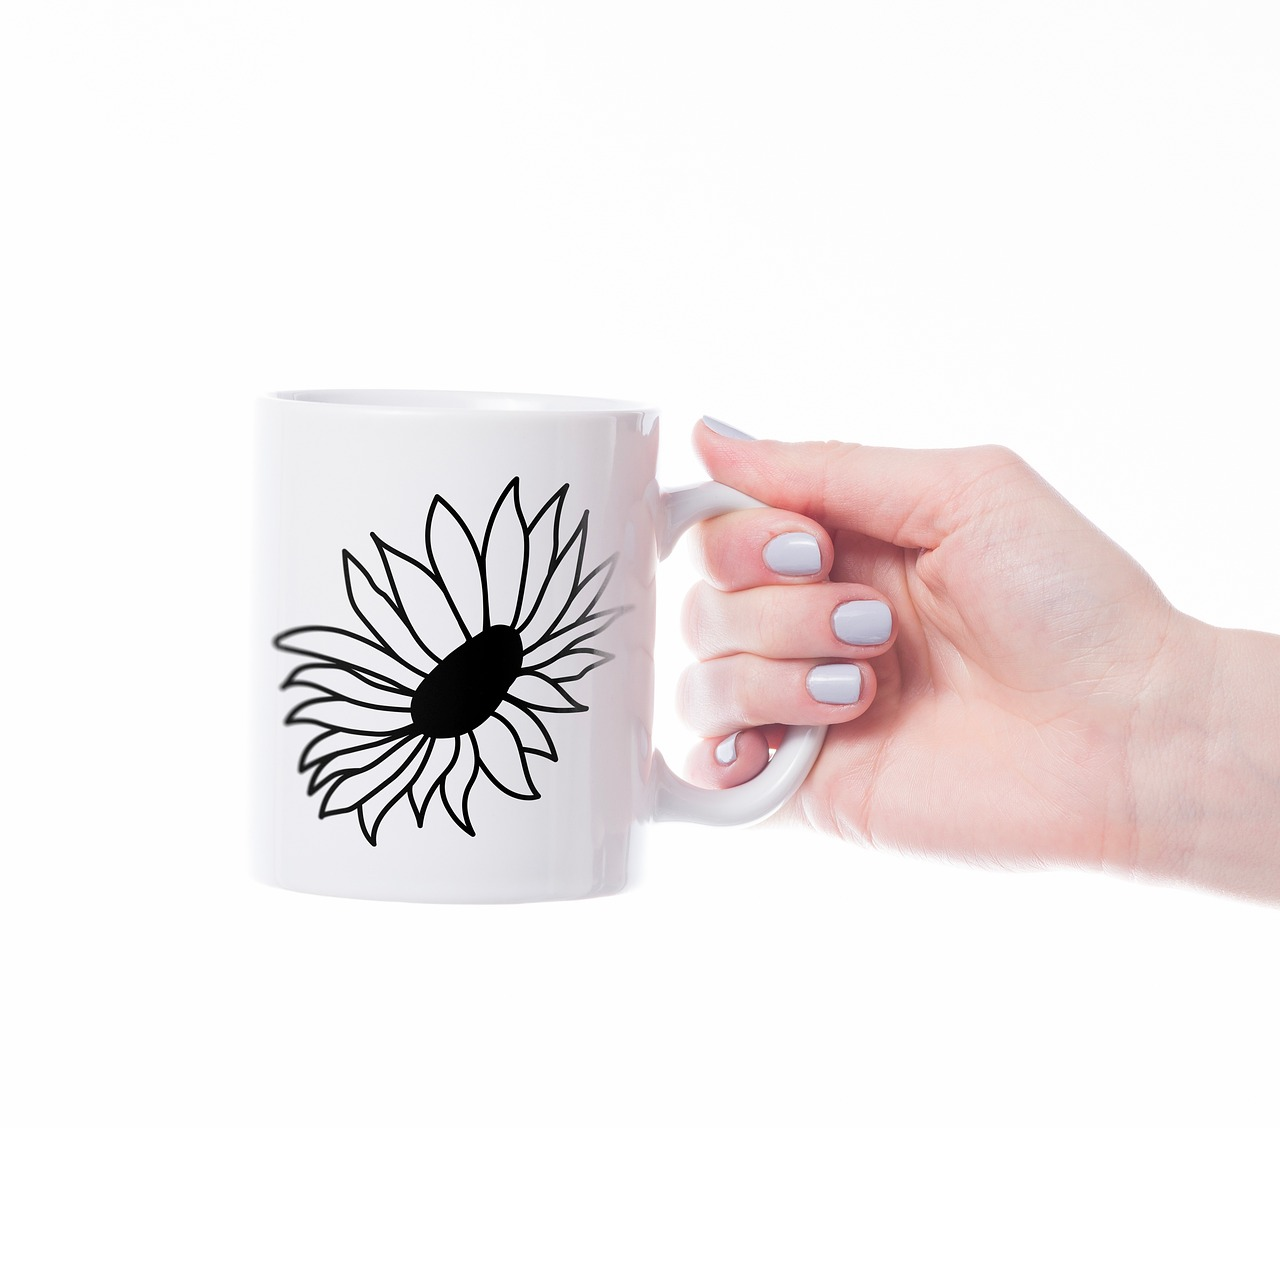mug: (173, 367, 858, 1008)
